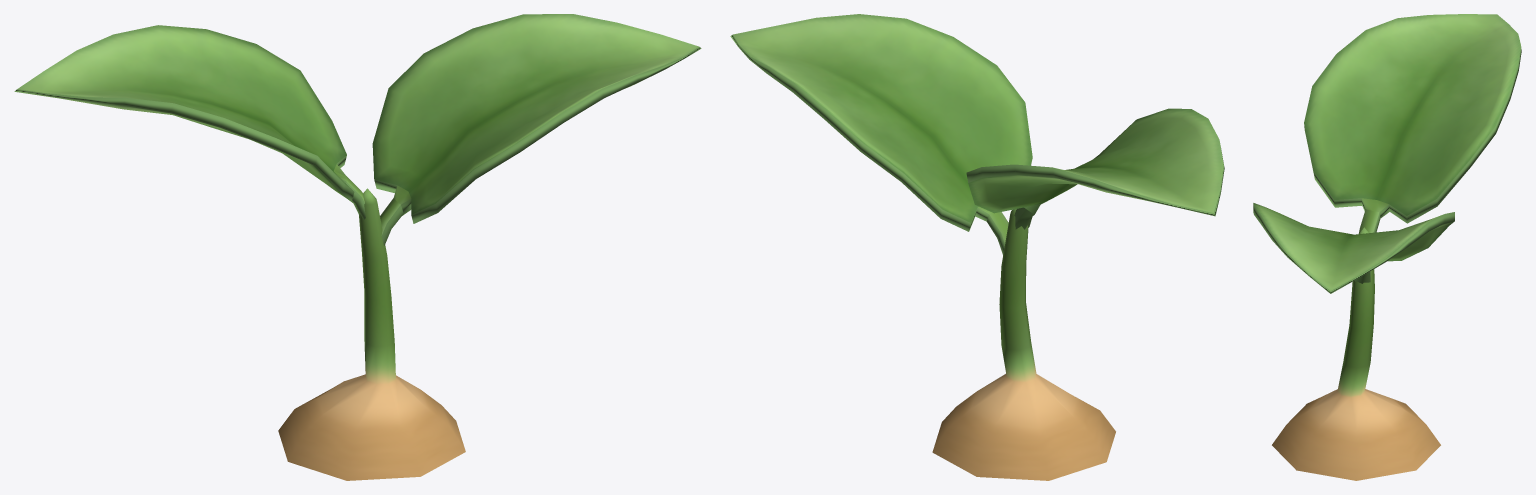
File: futaba.fbx
3 views of the same model, side by side, from view 1: azimuth 30°, elevation 25°; view 2: azimuth 150°, elevation 25°; view 3: azimuth 270°, elevation 25° (orthographic). The views are drawn at different scales.
Visible parts, largest first — view 1: futaba; view 2: futaba; view 3: futaba.
Part boxes in pixels (box(x1,y1,x2,y2)): futaba: box(14, 14, 701, 480); futaba: box(730, 14, 1224, 480); futaba: box(1253, 14, 1521, 480).
Bounding box in the file's own units: 3.47 × 2.14 × 1.56.
